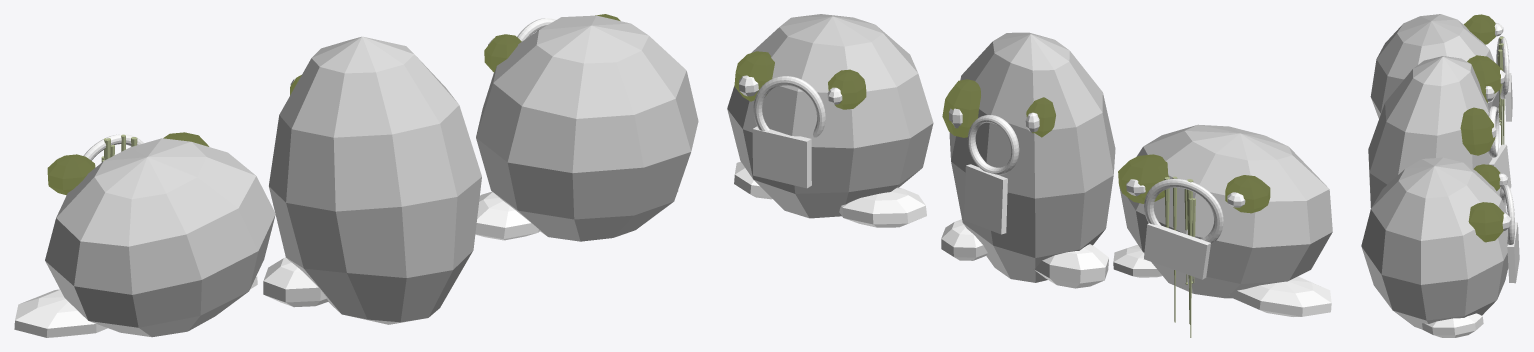
Rendered from clone_frogs.glb.
The picture shows the model from 3 angles, left to right: view 1: azimuth 30°, elevation 25°; view 2: azimuth 150°, elevation 25°; view 3: azimuth 270°, elevation 25°; orthographic projection. The views are drawn at different scales.
Visible parts, largest first — view 1: C2_Body, C3_Body, C1_Body, C1_Foot_-1, C2_Foot_-1, C3_Foot_-1, C1_Eye_-1, C3_Eye_-1; view 2: C2_Body, C3_Body, C1_Body, C3_Tag, C1_Foot_-1, C1_Tag, C2_Tag, C3_Foot_-1, C2_Foot_-1, C1_Eye_1, C2_Eye_1, C1_Cord (+9 smaller); view 3: C3_Body, C2_Body, C1_Body, C2_Eye_1, C3_Eye_1, C3_Foot_1, C1_Eye_1, C1_Eye_-1, C3_Tag, C3_Cord, C2_Tag, C1_Cord (+4 smaller).
Part boxes in pixels (bbox=[...]): C2_Body: bbox=[269, 36, 481, 324]; C3_Body: bbox=[476, 15, 698, 241]; C1_Body: bbox=[45, 138, 275, 337]; C1_Foot_-1: bbox=[14, 289, 107, 337]; C2_Foot_-1: bbox=[263, 257, 328, 307]; C3_Foot_-1: bbox=[475, 191, 539, 240]; C1_Eye_-1: bbox=[47, 154, 95, 195]; C3_Eye_-1: bbox=[484, 34, 521, 72]; C2_Body: bbox=[949, 32, 1115, 282]; C3_Body: bbox=[727, 14, 933, 218]; C1_Body: bbox=[1119, 124, 1332, 298]; C3_Tag: bbox=[752, 126, 811, 188]; C1_Foot_-1: bbox=[1229, 276, 1331, 316]; C1_Tag: bbox=[1144, 223, 1210, 279]; C2_Tag: bbox=[964, 164, 1007, 234]; C3_Foot_-1: bbox=[839, 187, 926, 227]; C2_Foot_-1: bbox=[1034, 244, 1108, 288]; C1_Eye_1: bbox=[1118, 154, 1168, 203]; C2_Eye_1: bbox=[942, 79, 980, 137]; C1_Cord: bbox=[1144, 178, 1223, 244]; C3_Body: bbox=[1361, 157, 1508, 329]; C2_Body: bbox=[1368, 56, 1492, 207]; C1_Body: bbox=[1370, 14, 1499, 118]; C2_Eye_1: bbox=[1460, 107, 1495, 155]; C3_Eye_1: bbox=[1468, 202, 1504, 242]; C3_Foot_1: bbox=[1422, 313, 1483, 337]; C1_Eye_1: bbox=[1467, 55, 1502, 93]; C1_Eye_-1: bbox=[1463, 14, 1495, 44]; C3_Tag: bbox=[1507, 222, 1519, 283]; C3_Cord: bbox=[1499, 184, 1514, 245]; C2_Tag: bbox=[1489, 144, 1511, 194]; C1_Cord: bbox=[1496, 36, 1509, 99].
Size of the model in its own units: 1.91 by 0.771 by 0.5359.
